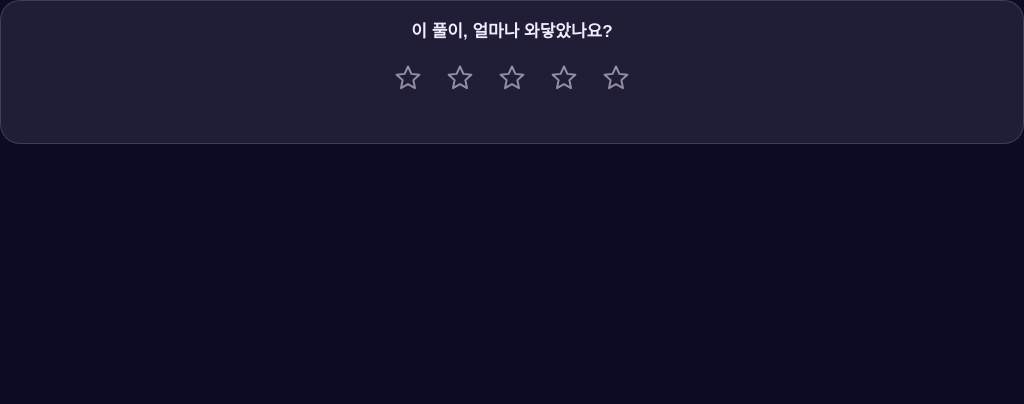
it: ReviewPrompt › says why a line was not saved
Click the radio button named "5점 중 3점": (512, 78) [488,54,536,102]
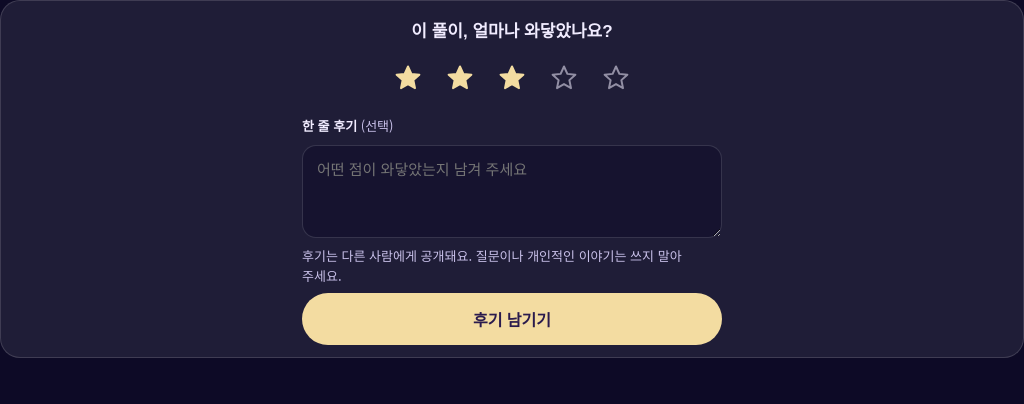
Click the button "후기 남기기": (512, 319) [302,293,722,345]
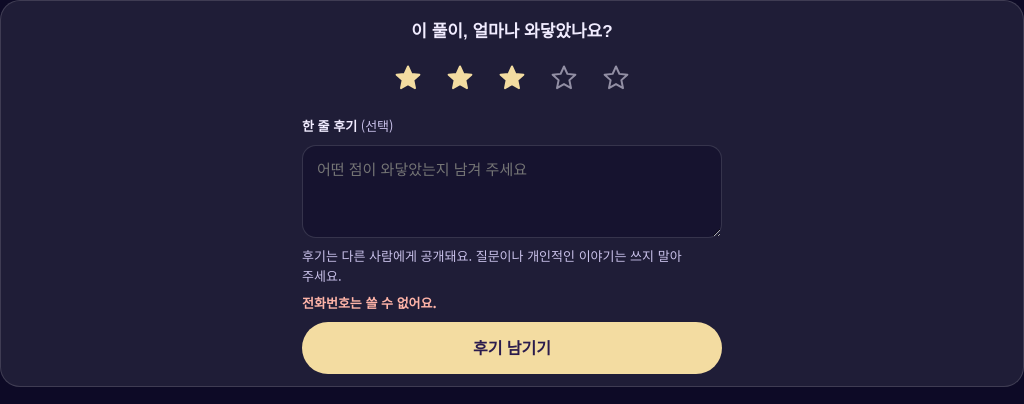
Check: the message reads "전화번호는 쓸 수 없어요.", box [302,293,437,312]
